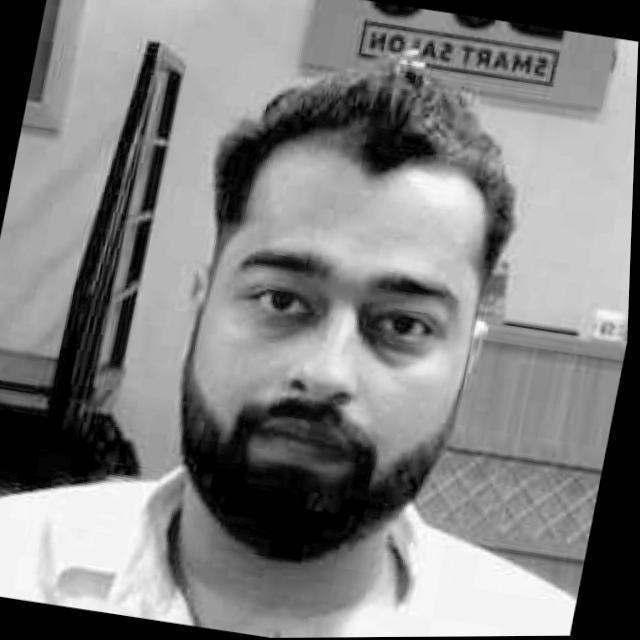puffy_eyes: (370, 336, 426, 372)
